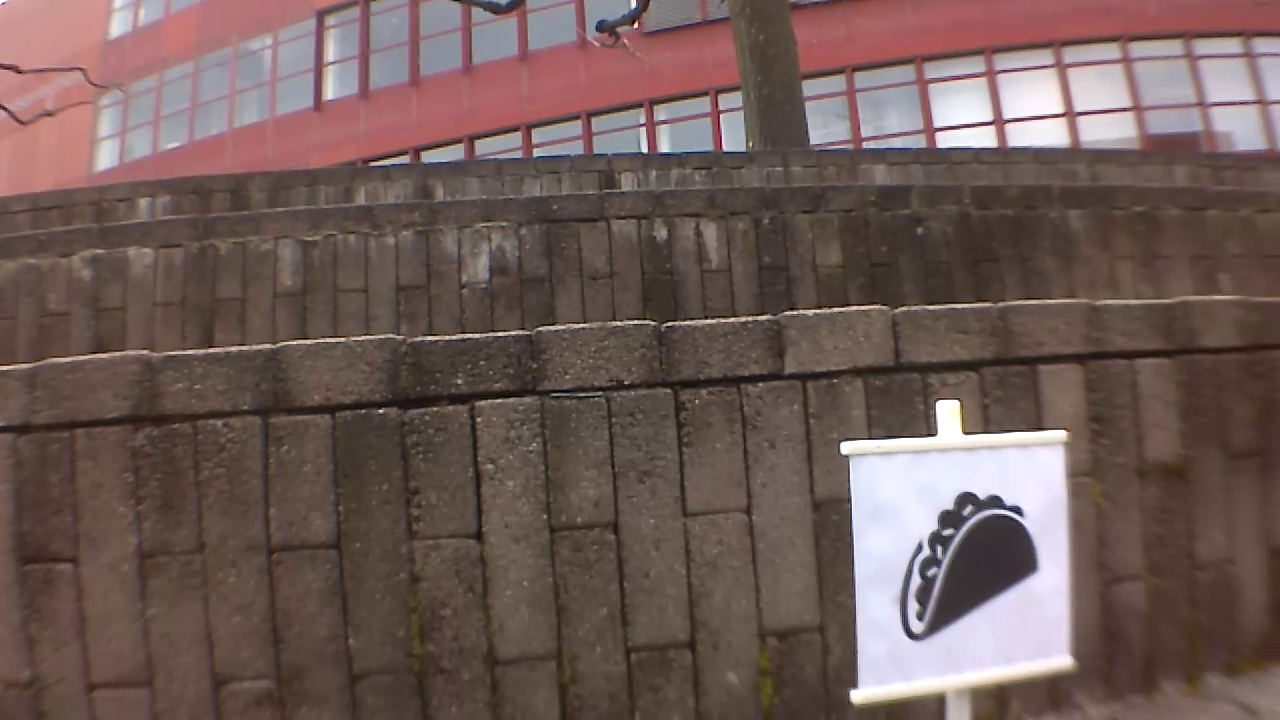taco: (888, 483, 1050, 649)
